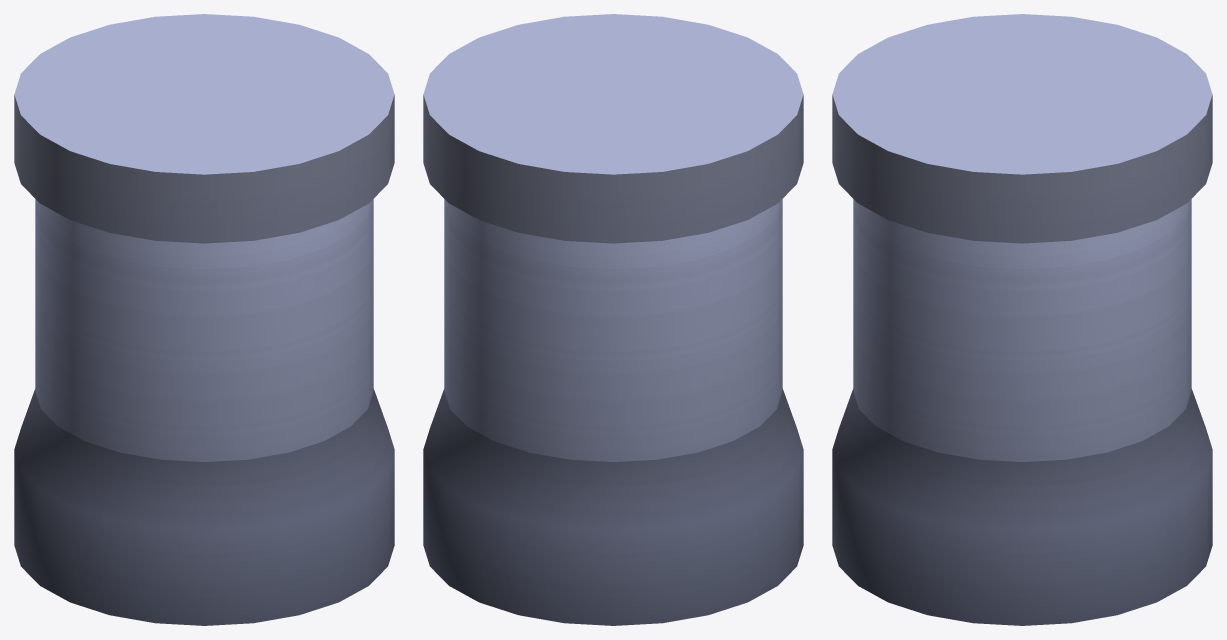
File: tower-base.fbx
3 renders of one model, left to right at view 1: azimuth 30°, elevation 25°; view 2: azimuth 150°, elevation 25°; view 3: azimuth 270°, elevation 25°, orthographic.
Parts seen in each view (by area): view 1: tower-base; view 2: tower-base; view 3: tower-base.
Part boxes in pixels (<box>): tower-base: <box>14,14,394,625</box>; tower-base: <box>423,14,803,625</box>; tower-base: <box>832,14,1212,625</box>.
Size of the model in its own units: 1 by 1 by 1.31.
